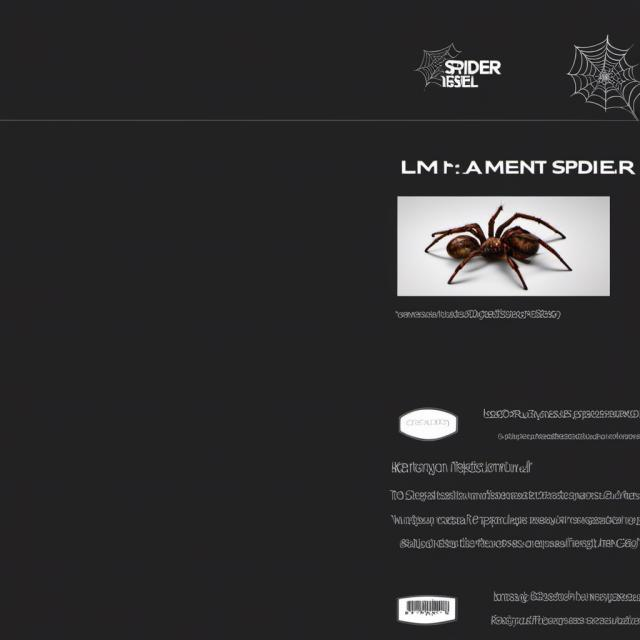spider: (412, 196, 574, 296)
